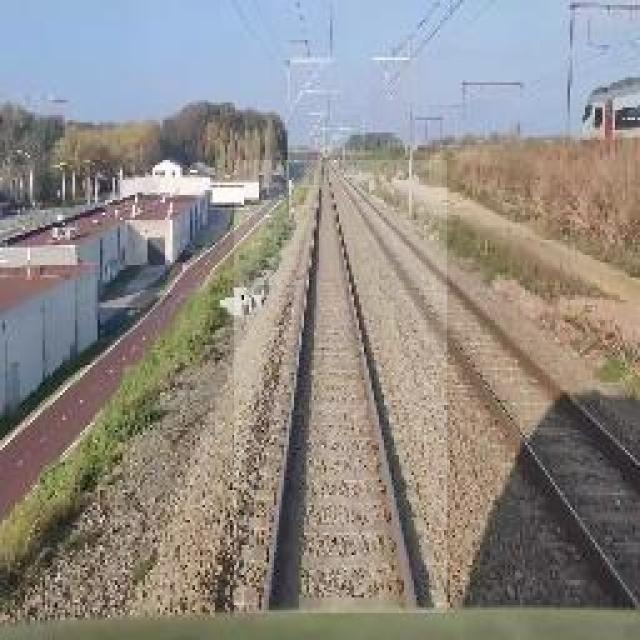rail: (236, 161, 448, 614)
